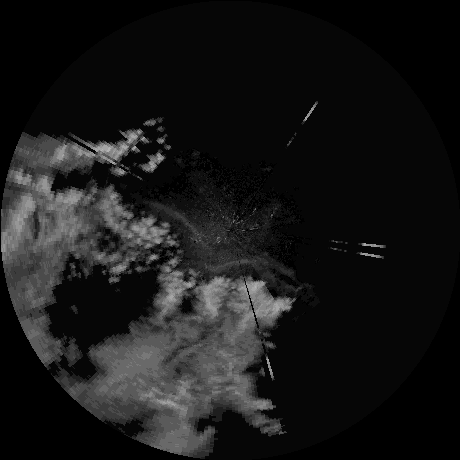frontgust: (202, 255, 300, 294), (145, 199, 213, 255)
